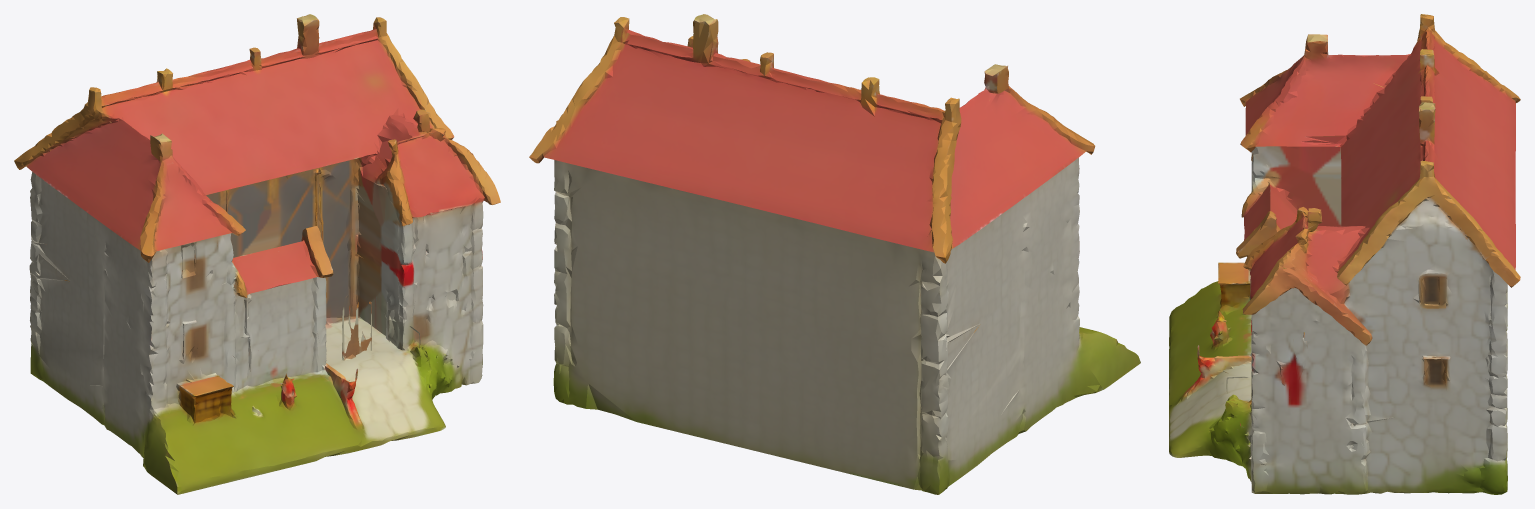
Rendered from human_barracks.glb.
The picture shows the model from 3 angles, left to right: view 1: azimuth 30°, elevation 25°; view 2: azimuth 150°, elevation 25°; view 3: azimuth 270°, elevation 25°; orthographic projection. The views are drawn at different scales.
Visible parts, largest first — view 1: human_barracks; view 2: human_barracks; view 3: human_barracks.
Boxes of the visible parts, left/top/right/bottom form: human_barracks: left=14, top=14, right=500, bottom=494; human_barracks: left=529, top=14, right=1140, bottom=494; human_barracks: left=1169, top=14, right=1520, bottom=494.
Bounding box in the file's own units: 1.89 × 1.63 × 1.51.
Materials: 1 (1 with a texture image).
